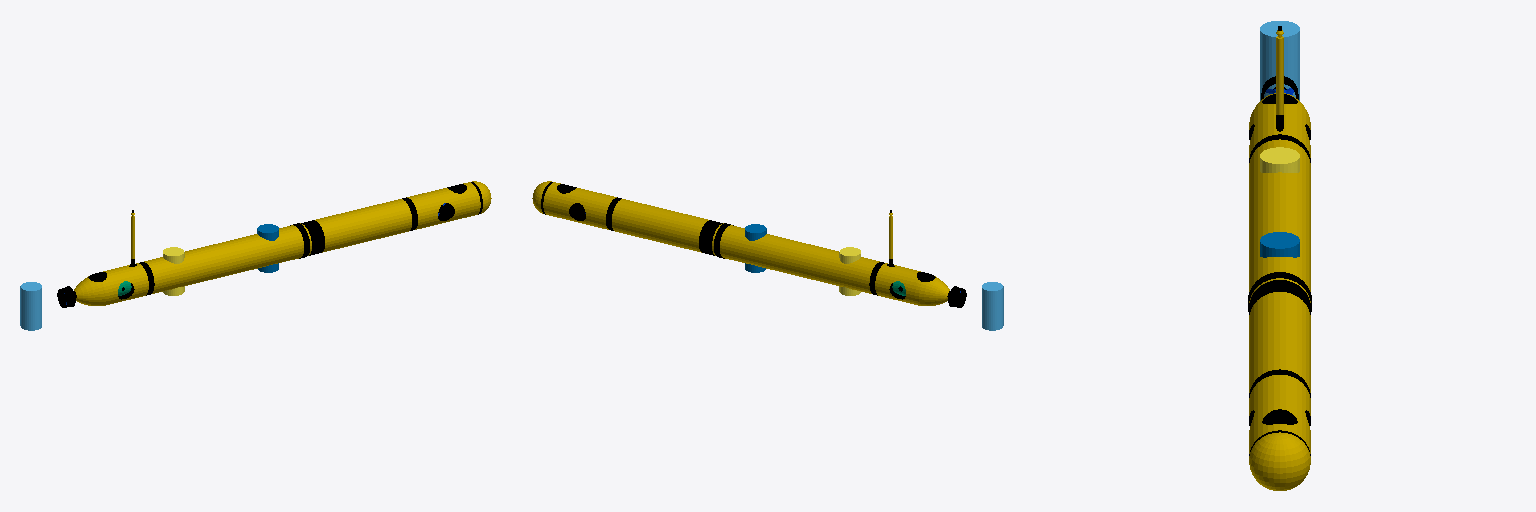
The robot description file, URDF, robot "x300":
<?xml version="1.0" ?>
<!-- =================================================================================== -->
<!-- |    This document was autogenerated by xacro from x300_default.urdf.xacro        | -->
<!-- |    EDITING THIS FILE BY HAND IS NOT RECOMMENDED                                 | -->
<!-- =================================================================================== -->
<robot name="x300">
  <!-- ROTOR DYNAMICS MACROS -->
  <!-- First order dynamics -->
  <!--
    MACROS FOR CONVERSION FUNCTIONS BETWEEN ROTORS ANG. VELOCITY AND
    THRUSTER FORCE
  -->
  <!-- THRUSTER MODULE MACROS  -->
  <!--
    Thruster model with first order dynamic model for the rotor dynamics
    and a proportional non-linear steady-state conversion from the rotor
    angular velocity to output thrust force
  -->
  <!-- Dummy root link -->
  <!--   <link name="${namespace}/base_root">
    <inertial>
      <origin xyz="0 0 0" rpy="0 0 0" />
      <mass value="0.001" />
      <inertia ixx="0.001" ixy="0.0" ixz="0.0" iyy="0.001" iyz="0.0" izz="0.001" />
    </inertial>
  </link>
  <joint name="${namespace}_base_root_joint" type="fixed">
    <parent link="${namespace}/base_root" />
    <child link="${namespace}/base_link" />
    <origin xyz="0 0 0" rpy="0 0 0" />
  </joint> -->
  <!-- Base Link -->
  <link name="x300/base_link">
    <inertial>
      <origin rpy="0 0 0" xyz="0.0 0.0 0.0"/>
      <mass value="30.0"/>
      <inertia ixx="0.163594" ixy="0.0" ixz="0.0" iyy="12.425007" iyz="0.0" izz="12.425007"/>
    </inertial>
    <visual>
      <origin rpy="0 0 0" xyz="0 0 0"/>
      <geometry>
        <mesh filename="model://x300/meshes/x300.dae" scale="1 1 1"/>
      </geometry>
    </visual>
    <collision>
      <origin rpy="0 0 0" xyz="0 0 0"/>
      <geometry>
        <mesh filename="model://x300/meshes/x300.dae" scale="1 1 1"/>
      </geometry>
    </collision>
  </link>
  <link name="x300/thruster_0">
    <inertial>
      <origin xyz="0 0 0"/>
      <mass value="0.001"/>
      <inertia ixx="0.0001" ixy="0.0" ixz="0.0" iyy="0.0001" iyz="0.0" izz="0.0001"/>
    </inertial>
    <visual>
      <geometry>
        <cylinder length="0.2" radius="0.05"/>
      </geometry>
    </visual>
    <collision>
      <geometry>
        <cylinder length="0.2" radius="0.05"/>
      </geometry>
    </collision>
  </link>
  <joint name="x300/thruster_0_joint" type="continuous">
    <parent link="x300/base_link"/>
    <child link="x300/thruster_0"/>
    <origin rpy="0.0 -3.14159 0.0" xyz="-1.0 0.0 0.0"/>
  </joint>
  <gazebo>
    <plugin filename="libuuv_thruster_ros_plugin.so" name="x300_thruster_0_plugin">
      <linkName>x300/thruster_0</linkName>
      <jointName>x300/thruster_0_joint</jointName>
      <thrusterID>0</thrusterID>
      <dynamics>
        <type>FirstOrder</type>
        <time_constant>0.1</time_constant>
        <rotor_constant>0.000049</rotor_constant>
      </dynamics>
      <conversion>
        <type>LinearInterp</type>
      </conversion>
      <upper_limit>50.0</upper_limit>
      <lower_limit>-50.0</lower_limit>
    </plugin>
  </gazebo>
  <link name="x300/thruster_1">
    <inertial>
      <origin xyz="0 0 0"/>
      <mass value="0.001"/>
      <inertia ixx="0.0001" ixy="0.0" ixz="0.0" iyy="0.0001" iyz="0.0" izz="0.0001"/>
    </inertial>
    <visual>
      <geometry>
        <cylinder length="0.2" radius="0.05"/>
      </geometry>
    </visual>
    <collision>
      <geometry>
        <cylinder length="0.2" radius="0.05"/>
      </geometry>
    </collision>
  </link>
  <joint name="x300/thruster_1_joint" type="continuous">
    <parent link="x300/base_link"/>
    <child link="x300/thruster_1"/>
    <origin rpy="0.0 1.5708 0.0" xyz="-0.5 0.0 0.0"/>
  </joint>
  <gazebo>
    <plugin filename="libuuv_thruster_ros_plugin.so" name="x300_thruster_1_plugin">
      <linkName>x300/thruster_1</linkName>
      <jointName>x300/thruster_1_joint</jointName>
      <thrusterID>1</thrusterID>
      <dynamics>
        <type>FirstOrder</type>
        <time_constant>0.1</time_constant>
        <rotor_constant>0.000049</rotor_constant>
      </dynamics>
      <conversion>
        <type>LinearInterp</type>
      </conversion>
      <upper_limit>50.0</upper_limit>
      <lower_limit>-50.0</lower_limit>
    </plugin>
  </gazebo>
  <link name="x300/thruster_2">
    <inertial>
      <origin xyz="0 0 0"/>
      <mass value="0.001"/>
      <inertia ixx="0.0001" ixy="0.0" ixz="0.0" iyy="0.0001" iyz="0.0" izz="0.0001"/>
    </inertial>
    <visual>
      <geometry>
        <cylinder length="0.2" radius="0.05"/>
      </geometry>
    </visual>
    <collision>
      <geometry>
        <cylinder length="0.2" radius="0.05"/>
      </geometry>
    </collision>
  </link>
  <joint name="x300/thruster_2_joint" type="continuous">
    <parent link="x300/base_link"/>
    <child link="x300/thruster_2"/>
    <origin rpy="0.0 0.0 1.5708" xyz="-0.25 0.0 0.0"/>
  </joint>
  <gazebo>
    <plugin filename="libuuv_thruster_ros_plugin.so" name="x300_thruster_2_plugin">
      <linkName>x300/thruster_2</linkName>
      <jointName>x300/thruster_2_joint</jointName>
      <thrusterID>2</thrusterID>
      <dynamics>
        <type>FirstOrder</type>
        <time_constant>0.1</time_constant>
        <rotor_constant>0.000049</rotor_constant>
      </dynamics>
      <conversion>
        <type>LinearInterp</type>
      </conversion>
      <upper_limit>50.0</upper_limit>
      <lower_limit>-50.0</lower_limit>
    </plugin>
  </gazebo>
  <link name="x300/thruster_3">
    <inertial>
      <origin xyz="0 0 0"/>
      <mass value="0.001"/>
      <inertia ixx="0.0001" ixy="0.0" ixz="0.0" iyy="0.0001" iyz="0.0" izz="0.0001"/>
    </inertial>
    <visual>
      <geometry>
        <cylinder length="0.2" radius="0.05"/>
      </geometry>
    </visual>
    <collision>
      <geometry>
        <cylinder length="0.2" radius="0.05"/>
      </geometry>
    </collision>
  </link>
  <joint name="x300/thruster_3_joint" type="continuous">
    <parent link="x300/base_link"/>
    <child link="x300/thruster_3"/>
    <origin rpy="0.0 0.0 1.5708" xyz="0.25 0.0 0.0"/>
  </joint>
  <gazebo>
    <plugin filename="libuuv_thruster_ros_plugin.so" name="x300_thruster_3_plugin">
      <linkName>x300/thruster_3</linkName>
      <jointName>x300/thruster_3_joint</jointName>
      <thrusterID>3</thrusterID>
      <dynamics>
        <type>FirstOrder</type>
        <time_constant>0.1</time_constant>
        <rotor_constant>0.000049</rotor_constant>
      </dynamics>
      <conversion>
        <type>LinearInterp</type>
      </conversion>
      <upper_limit>50.0</upper_limit>
      <lower_limit>-50.0</lower_limit>
    </plugin>
  </gazebo>
  <link name="x300/thruster_4">
    <inertial>
      <origin xyz="0 0 0"/>
      <mass value="0.001"/>
      <inertia ixx="0.0001" ixy="0.0" ixz="0.0" iyy="0.0001" iyz="0.0" izz="0.0001"/>
    </inertial>
    <visual>
      <geometry>
        <cylinder length="0.2" radius="0.05"/>
      </geometry>
    </visual>
    <collision>
      <geometry>
        <cylinder length="0.2" radius="0.05"/>
      </geometry>
    </collision>
  </link>
  <joint name="x300/thruster_4_joint" type="continuous">
    <parent link="x300/base_link"/>
    <child link="x300/thruster_4"/>
    <origin rpy="0.0 1.5708 0.0" xyz="0.5 0.0 0.0"/>
  </joint>
  <gazebo>
    <plugin filename="libuuv_thruster_ros_plugin.so" name="x300_thruster_4_plugin">
      <linkName>x300/thruster_4</linkName>
      <jointName>x300/thruster_4_joint</jointName>
      <thrusterID>4</thrusterID>
      <dynamics>
        <type>FirstOrder</type>
        <time_constant>0.1</time_constant>
        <rotor_constant>0.000049</rotor_constant>
      </dynamics>
      <conversion>
        <type>LinearInterp</type>
      </conversion>
      <upper_limit>50.0</upper_limit>
      <lower_limit>-50.0</lower_limit>
    </plugin>
  </gazebo>
  <gazebo>
    <plugin filename="libuuv_joint_state_publisher.so" name="uuv_joint_state_publisher">
      <ros>
        <namespace>x300</namespace>
      </ros>
      <robotNamespace>x300</robotNamespace>
      <updateRate>50</updateRate>
    </plugin>
  </gazebo>
  <!-- Hydrodynamic Plugin -->
  <!--  <gazebo>
    <plugin name="${namespace}_hydrodynamics_plugin" filename="libuuv_underwater_object_ros_plugin.so">
      <fluid_density>1027.0</fluid_density>
      <flow_velocity_topic>hydrodynamics/current_velocity</flow_velocity_topic>
      <link name="${namespace}/base_link">
        <volume>0.068</volume>
        <center_of_buoyancy>0 0 0</center_of_buoyancy>
        <neutrally_buoyant>0</neutrally_buoyant>
        <hydrodynamic_model>
          <type>fossen</type>
          <added_mass>
            -2.270   0       0       0       0       0
            0       -22.700 0       0       0       0
            0       0       -22.700 0       0       0
            0       0       0       -0.364 0       0
            0       0       0       0       -0.364 0
            0       0       0       0       0       -0.364
          </added_mass>
          <linear_damping_forward_speed>
            1.079   0       0       0       0       0
            0       -175.0  0       0       0       100.0
            0       0       -175.0  0       -100.0  0
            0       0       0       -50.0  0       0
            0       0       100.0   0       -50.0   0
            0       -50.0   0       0       0       -50.0
          </linear_damping_forward_speed>
        </hydrodynamic_model>
      </link>
    </plugin>
  </gazebo>
 -->
</robot>

--- What the picture shows (computed from the rendered views, not written in the file) ---
The picture shows the robot from 3 angles, left to right: view 1: azimuth 30°, elevation 25°; view 2: azimuth 150°, elevation 25°; view 3: azimuth 270°, elevation 25°; orthographic projection.
Model x300 with 6 links and 5 joints (5 continuous), rooted at x300/base_link, posed all joints at 0.
Links seen in each view (by area): view 1: x300/base_link, x300/thruster_0; view 2: x300/base_link, x300/thruster_0; view 3: x300/base_link, x300/thruster_0, x300/thruster_2, x300/thruster_3.
Boxes of the visible links, x1,y1,x2,y2 form: x300/base_link: [57, 181, 491, 307]; x300/thruster_0: [20, 282, 41, 330]; x300/base_link: [532, 181, 966, 307]; x300/thruster_0: [982, 282, 1003, 330]; x300/base_link: [1248, 26, 1311, 490]; x300/thruster_0: [1260, 21, 1299, 100]; x300/thruster_2: [1260, 147, 1299, 172]; x300/thruster_3: [1260, 232, 1299, 257].
Bounding box of the posed robot: 2.46 × 0.161 × 0.4559 m (x, y, z).
1 mesh visuals loaded from 1 distinct referenced files (1 Collada DAE).
